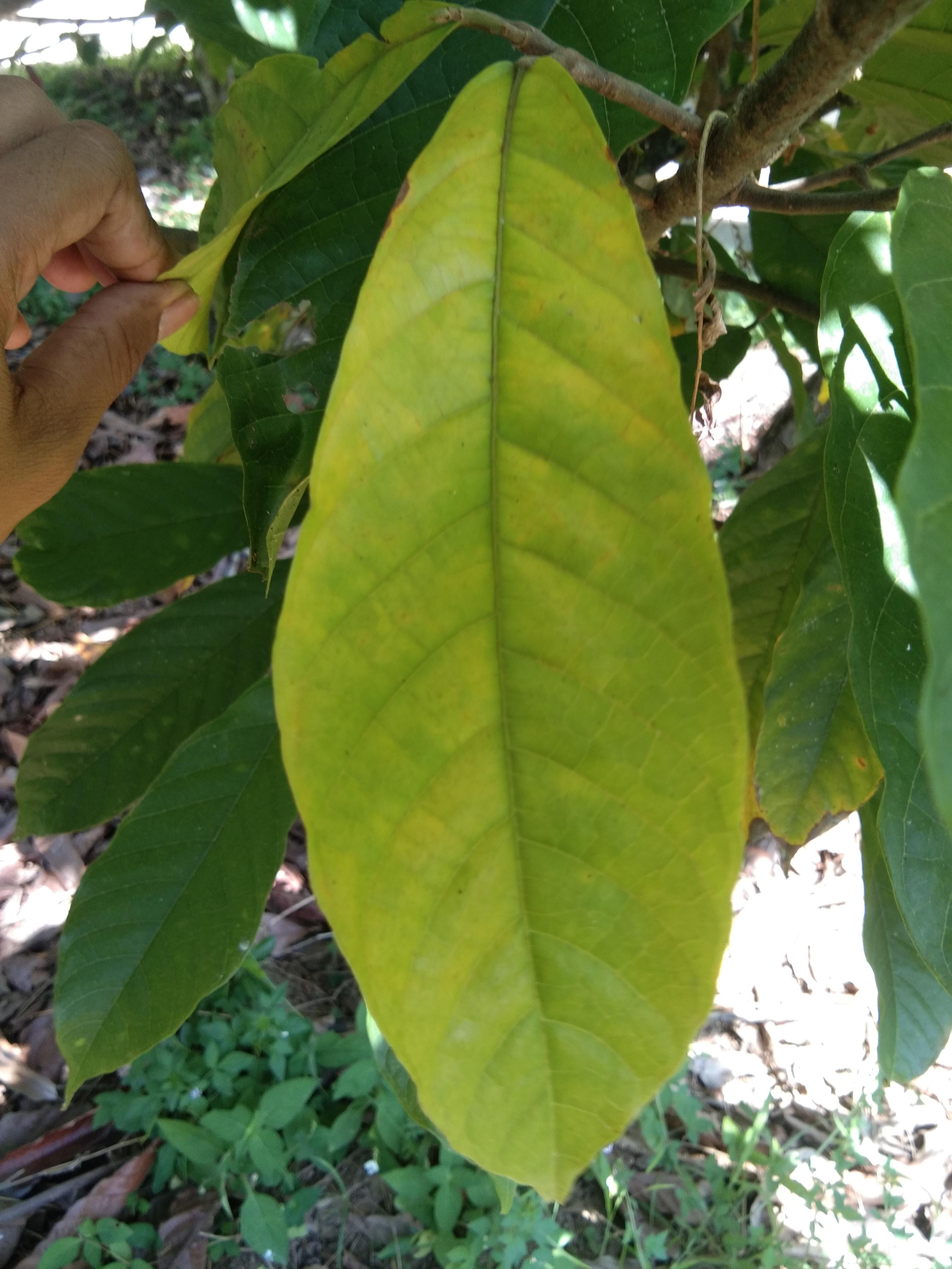deficiencia_potasio: (262, 25, 751, 1220)
